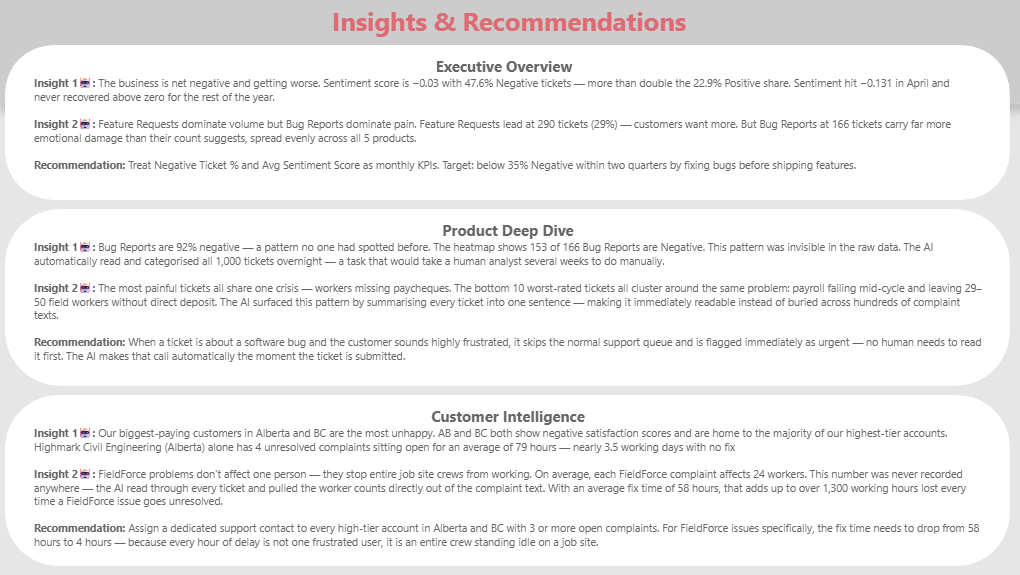

The page's visual inventory and layout, read from the dashboard file:
{"tool":"powerbi","page":{"name":"Insights & Recommendations","canvas":[1280,720],"ordinal":3},"visuals":[{"type":"shape","box":[0,0,1280,131.2],"z":0},{"type":"textbox","box":[0,0,1280,52.5],"z":1000},{"type":"shape","box":[9.6,57.5,1256.2,193.8],"z":2000},{"type":"textbox","box":[41.2,66.2,1185,173.8],"z":3000},{"type":"shape","box":[9.6,262.5,1256.2,221.2],"z":4000},{"type":"shape","box":[9.6,495,1256.2,213.8],"z":5000},{"type":"textbox","box":[41.2,271.2,1195,200],"z":6000},{"type":"textbox","box":[41.2,503.8,1195,192.5],"z":7000}]}

Visuals, with their boxes in screenshot pixels (x1, y1, x2, y2), scaled from the page's 1280x720 canvas onto the 1020x575 screenshot:
shape: <bbox>0, 0, 1019, 105</bbox>
textbox: <bbox>0, 0, 1019, 42</bbox>
shape: <bbox>8, 46, 1009, 201</bbox>
textbox: <bbox>33, 53, 977, 192</bbox>
shape: <bbox>8, 210, 1009, 386</bbox>
shape: <bbox>8, 395, 1009, 566</bbox>
textbox: <bbox>33, 217, 985, 376</bbox>
textbox: <bbox>33, 402, 985, 556</bbox>
